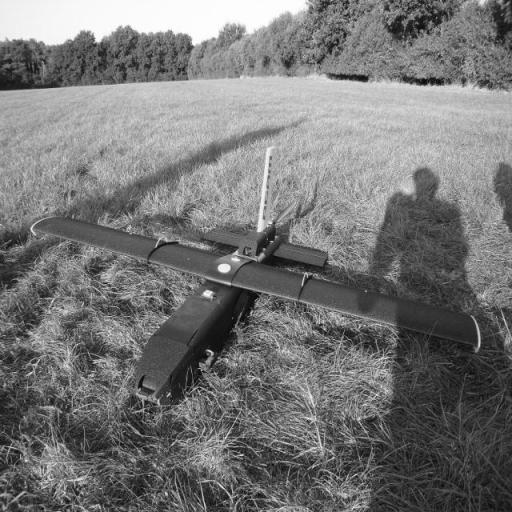uav: (27, 146, 484, 398)
